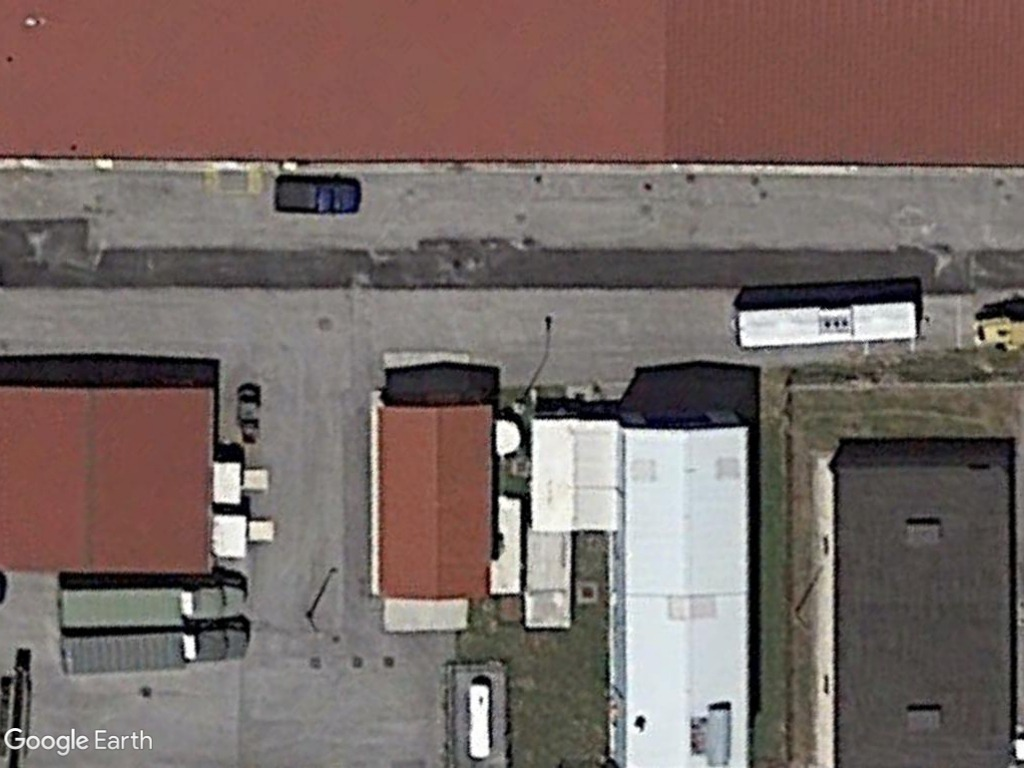bus: (725, 295, 922, 352)
longvehicle: (53, 624, 249, 678), (51, 580, 253, 628)
other: (271, 175, 363, 216)
